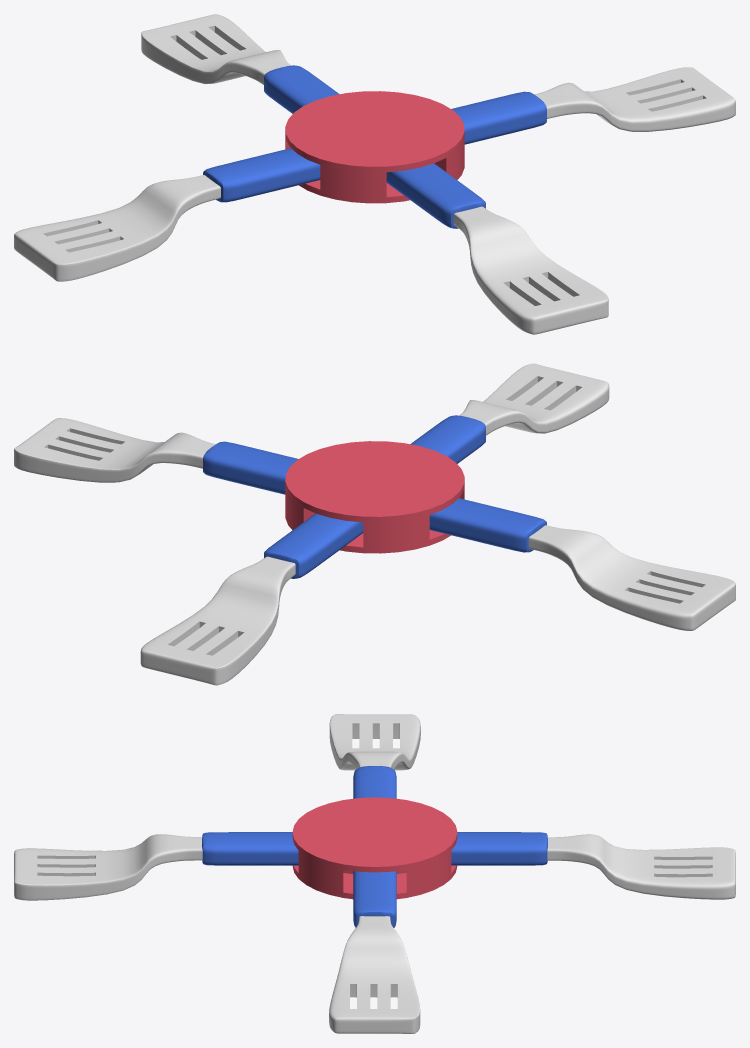
File: spatula.fbx
The picture shows the model from 3 angles, top to bottom: view 1: azimuth 30°, elevation 25°; view 2: azimuth 150°, elevation 25°; view 3: azimuth 270°, elevation 25°; orthographic projection. The views are drawn at different scales.
Parts seen in each view (by area): view 1: spatula-cover, spatula.003, spatula.004, spatula.001, spatula.002; view 2: spatula-cover, spatula.003, spatula.002, spatula.001, spatula.004; view 3: spatula-cover, spatula.002, spatula.004, spatula.001, spatula.003.
Part boxes in pixels (x1,y1,x2,y2): spatula-cover: (285, 91, 464, 203); spatula.003: (14, 148, 320, 281); spatula.004: (386, 163, 608, 334); spatula.001: (451, 67, 735, 144); spatula.002: (141, 14, 339, 113); spatula-cover: (285, 441, 464, 553); spatula.003: (429, 498, 735, 630); spatula.002: (140, 513, 363, 685); spatula.001: (14, 418, 298, 494); spatula.004: (410, 363, 609, 463); spatula-cover: (292, 797, 457, 899); spatula.002: (451, 832, 735, 899); spatula.004: (14, 832, 298, 900); spatula.001: (329, 871, 420, 1033); spatula.003: (329, 714, 420, 798).
Bounding box in the file's own units: 2617 × 199 × 2617.
